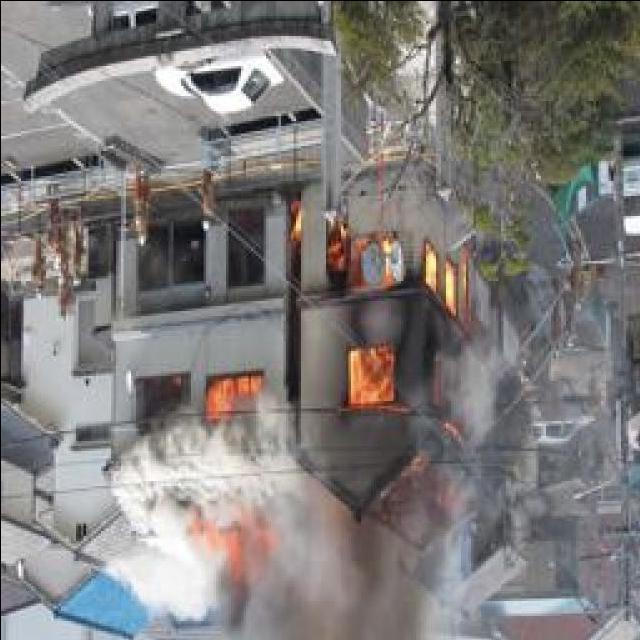Fire: (327, 215, 471, 440), (194, 508, 290, 594), (202, 368, 269, 415)
